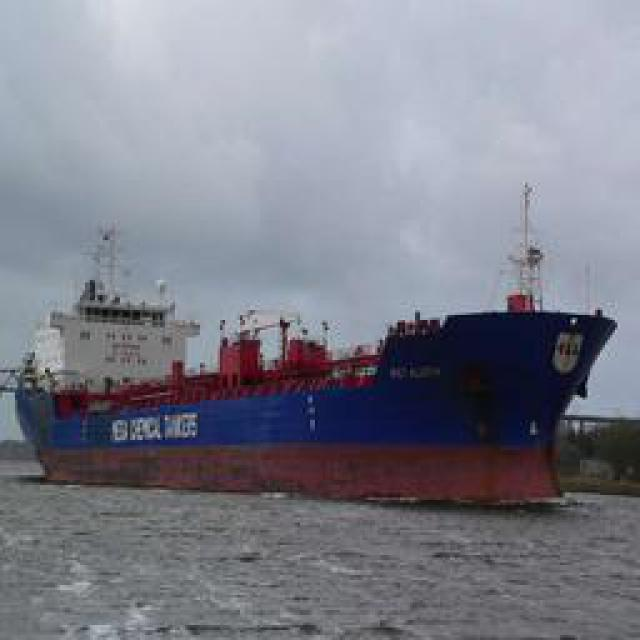Ship: (13, 219, 621, 502)
